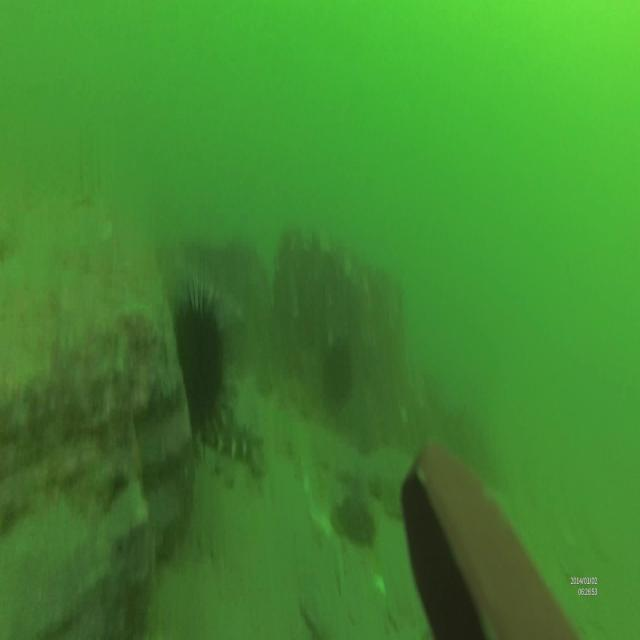echinus: (171, 274, 229, 428)
holothurian: (200, 416, 266, 472)
